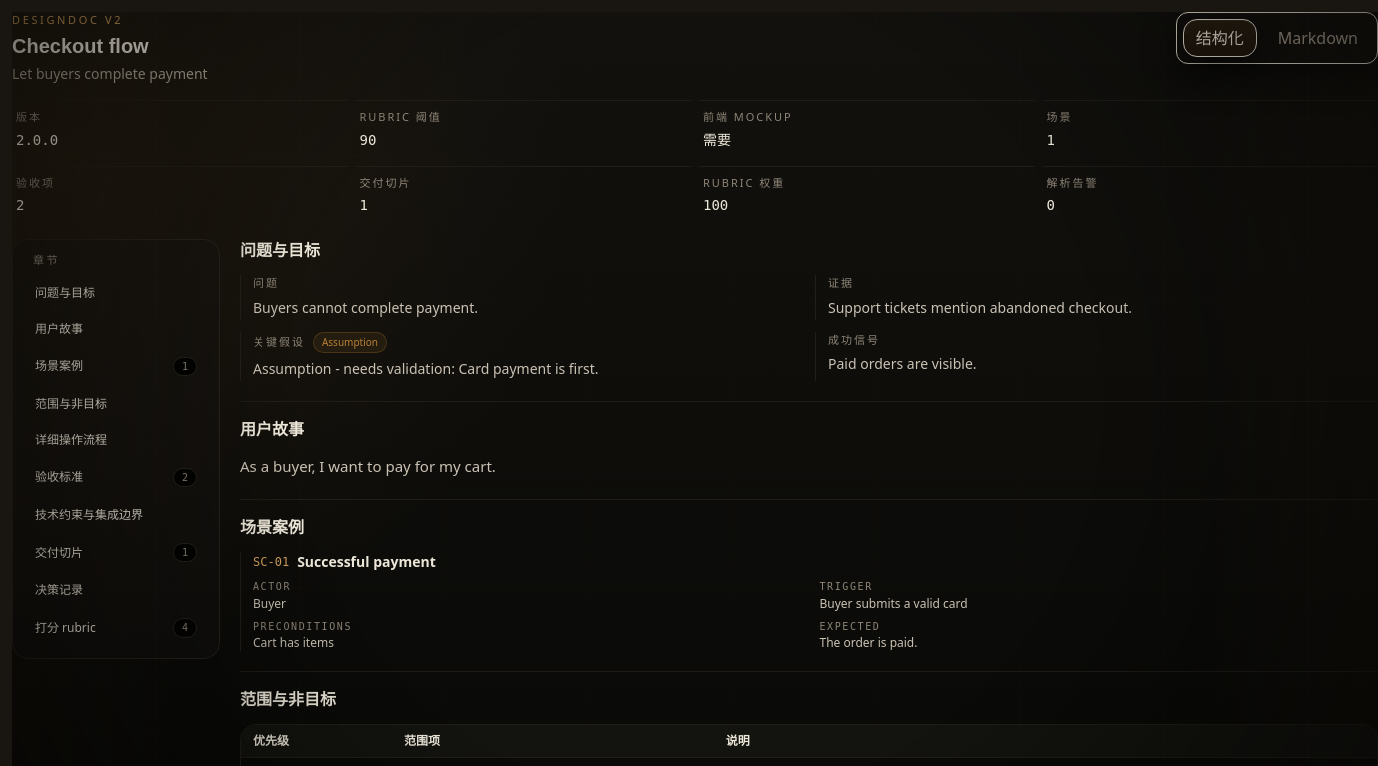
Test: DesignDocStructuredViewer › keeps the raw Markdown view available
Click the tab "Markdown" at (1318, 38), box [1265, 19, 1371, 57]
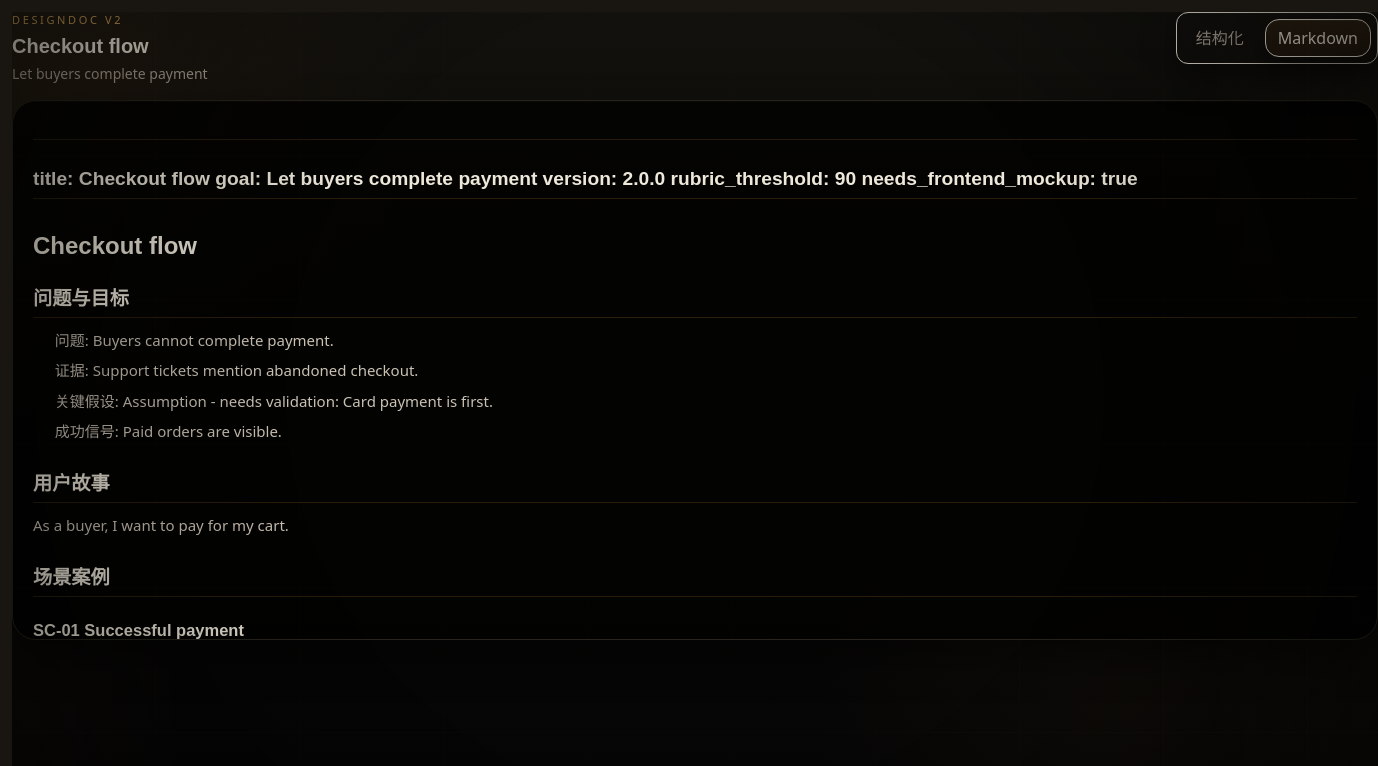
Expected: the heading "问题与目标" is shown, [33, 287, 1357, 318]
Now the text "验收项" is gone
